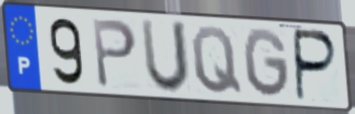9: (48, 17, 86, 87)
G: (241, 26, 292, 101)
P: (90, 17, 139, 91), (294, 27, 340, 104)
Q: (189, 24, 245, 96)
U: (138, 17, 191, 96)
